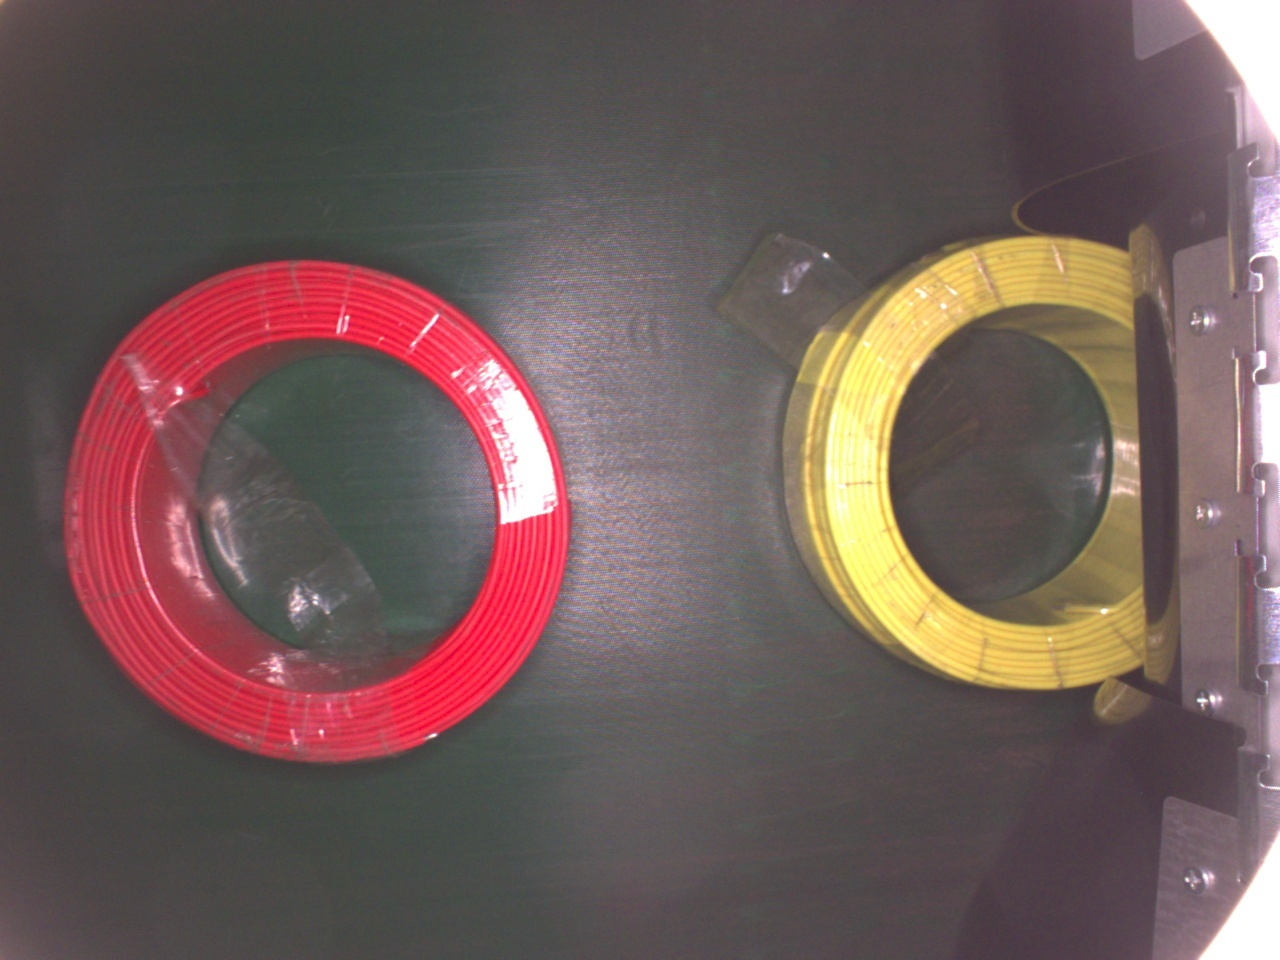red: (53, 255, 575, 772)
yellow: (778, 228, 1146, 693)
